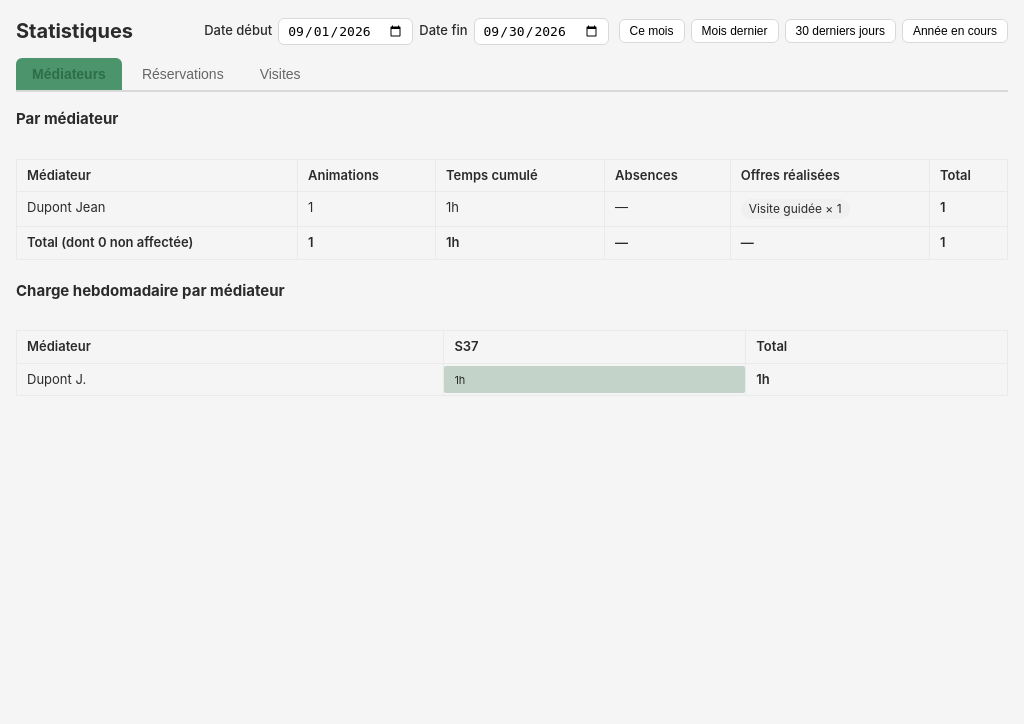
Scenario: StatsView › visits tab shows the free vs accompanied pie chart
Click the button "Visites": point(280, 74) left=244, top=58, right=317, bottom=90
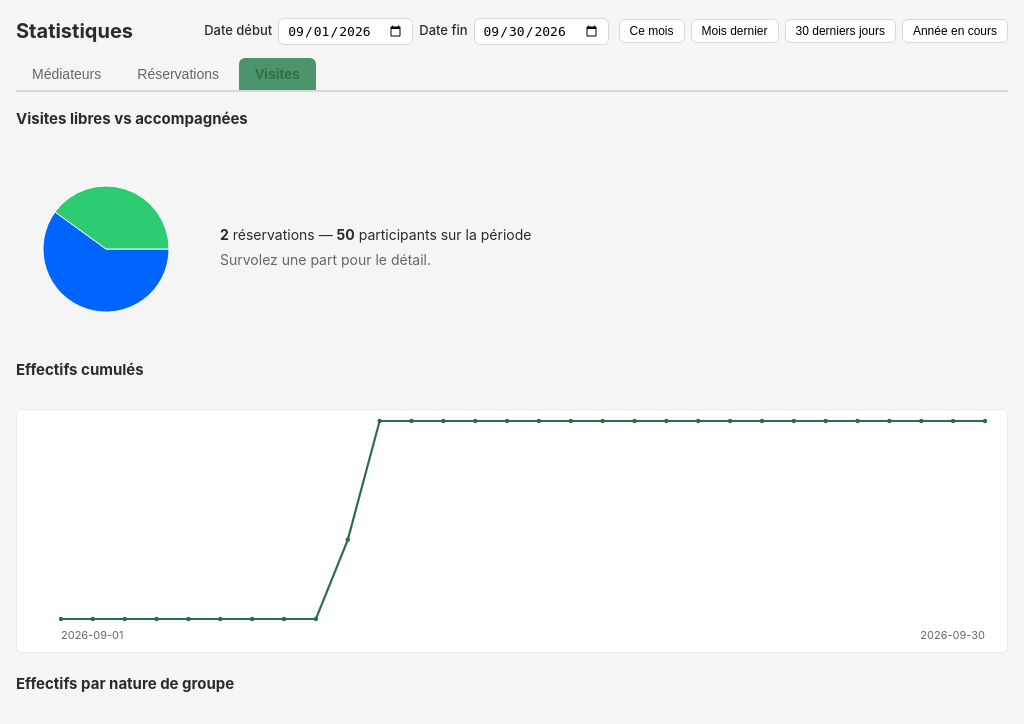
Result: the heading "Visites libres vs accompagnées" is shown at left=16, top=109, right=248, bottom=128
Result: the heading "Effectifs cumulés" is shown at left=16, top=360, right=144, bottom=378
